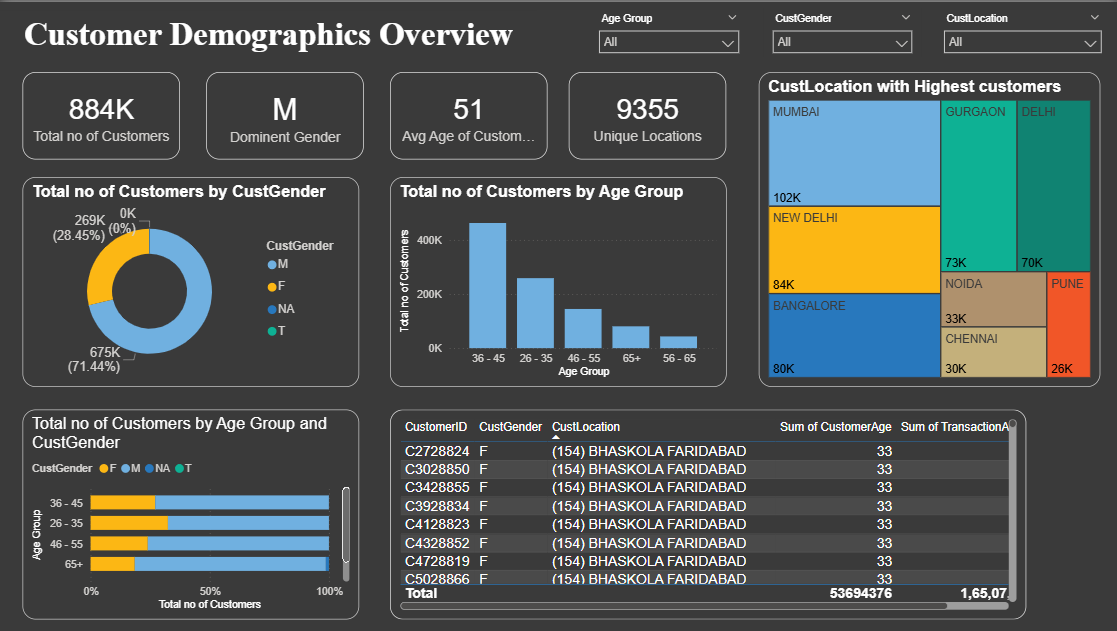

Layout of this report page (visuals, bound fields, positions):
{"tool":"powerbi","page":{"name":"Report-1","canvas":[1280,720],"ordinal":0},"visuals":[{"type":"card","fields":{"Values":["bank_transactions.Total no of Customers"]},"box":[25,80,180,100],"z":0},{"type":"card","fields":{"Values":["bank_transactions.Avg Age of Customers"]},"box":[445,80,180,100],"z":1000},{"type":"card","fields":{"Values":["bank_transactions.Unique Locations"]},"box":[650,80,180,100],"z":2000},{"type":"donutChart","fields":{"Category":["bank_transactions.CustGender"],"Y":["bank_transactions.Total no of Customers"]},"box":[25,200,385,240],"z":3000},{"type":"clusteredColumnChart","fields":{"Category":["bank_transactions.Age Group"],"Y":["bank_transactions.Total no of Customers"]},"box":[445,200,385,240],"z":4000},{"type":"treemap","title":"CustLocation with Highest customers","fields":{"Group":["bank_transactions.CustLocation"],"Values":["bank_transactions.Total no of Customers"]},"box":[867.5,80,390,360],"z":5000},{"type":"textbox","box":[0,10,613.9,65.6],"z":6000},{"type":"hundredPercentStackedBarChart","fields":{"Category":["bank_transactions.Age Group"],"Series":["bank_transactions.CustGender"],"Y":["bank_transactions.Total no of Customers"]},"box":[25,465,385,240],"z":7000},{"type":"tableEx","fields":{"Values":["bank_transactions.CustomerID","bank_transactions.CustGender","bank_transactions.CustLocation","Sum(bank_transactions.CustomerAge)","Sum(bank_transactions.TransactionAmount (INR))"]},"box":[445,465,727.5,240],"z":8000},{"type":"card","fields":{"Values":["bank_transactions.Dominent Gender"]},"box":[235,80,180,100],"z":9000},{"type":"slicer","fields":{"Values":["bank_transactions.Age Group"]},"box":[675,7,180,55],"z":10000},{"type":"slicer","fields":{"Values":["bank_transactions.CustGender"]},"box":[873,7.2,180,54.8],"z":11000},{"type":"slicer","fields":{"Values":["bank_transactions.CustLocation"]},"box":[1068,7,200,55],"z":12000}]}

Visuals, with their boxes in screenshot pixels (x1, y1, x2, y2), scaled from the page's 1280x720 canvas onto the 1117x631 screenshot:
card - bank_transactions.Total no of Customers: (left=22, top=70, right=179, bottom=158)
card - bank_transactions.Avg Age of Customers: (left=388, top=70, right=545, bottom=158)
card - bank_transactions.Unique Locations: (left=567, top=70, right=724, bottom=158)
donutChart - bank_transactions.CustGender x bank_transactions.Total no of Customers: (left=22, top=175, right=358, bottom=386)
clusteredColumnChart - bank_transactions.Age Group x bank_transactions.Total no of Customers: (left=388, top=175, right=724, bottom=386)
"CustLocation with Highest customers" treemap: (left=757, top=70, right=1097, bottom=386)
textbox: (left=0, top=9, right=536, bottom=66)
hundredPercentStackedBarChart - bank_transactions.Age Group x bank_transactions.CustGender: (left=22, top=408, right=358, bottom=618)
tableEx - bank_transactions.CustomerID x bank_transactions.CustGender: (left=388, top=408, right=1023, bottom=618)
card - bank_transactions.Dominent Gender: (left=205, top=70, right=362, bottom=158)
slicer - bank_transactions.Age Group: (left=589, top=6, right=746, bottom=54)
slicer - bank_transactions.CustGender: (left=762, top=6, right=919, bottom=54)
slicer - bank_transactions.CustLocation: (left=932, top=6, right=1107, bottom=54)
